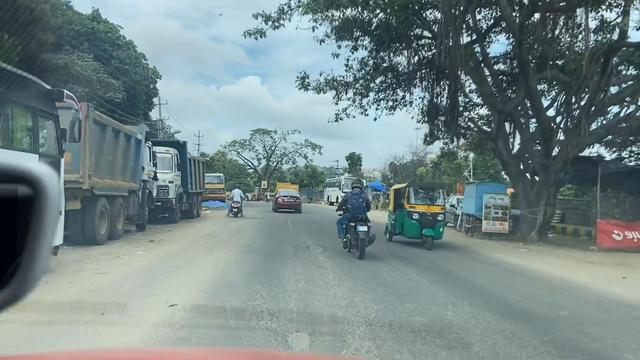HMV: (56, 91, 165, 248), (148, 127, 206, 224), (319, 171, 363, 208), (206, 169, 230, 209)
LMV: (385, 169, 457, 264), (330, 170, 380, 265), (224, 180, 254, 230), (272, 183, 308, 216), (263, 187, 273, 214)
RoadDamages: (257, 313, 347, 360), (298, 234, 336, 277)
